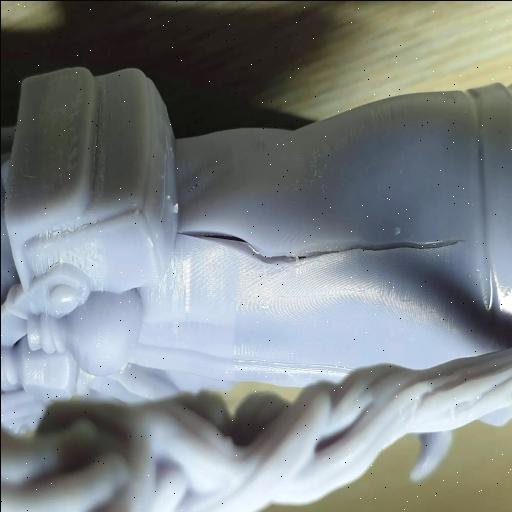cracks: (182, 197, 450, 282)
